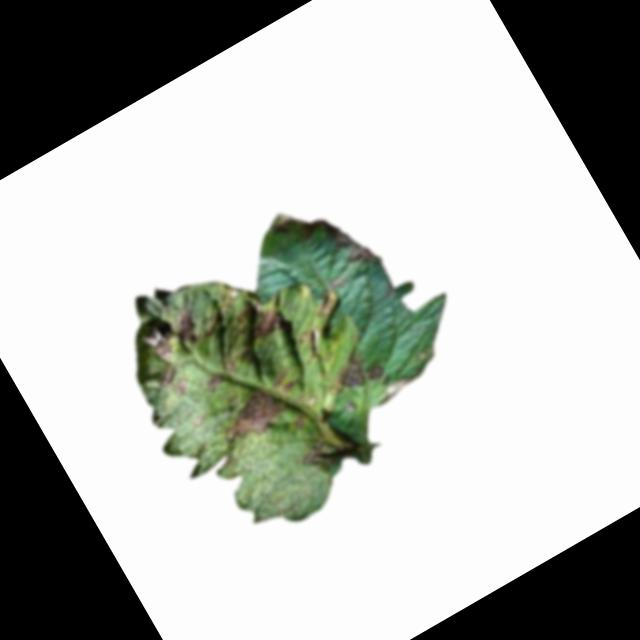Early_blight: (204, 272, 290, 358), (128, 323, 197, 409), (214, 377, 296, 447), (325, 340, 387, 400), (327, 211, 382, 275), (165, 300, 216, 354), (197, 353, 244, 397), (295, 434, 340, 478)
